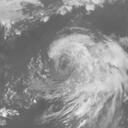cyclone: (31, 34, 123, 113)
